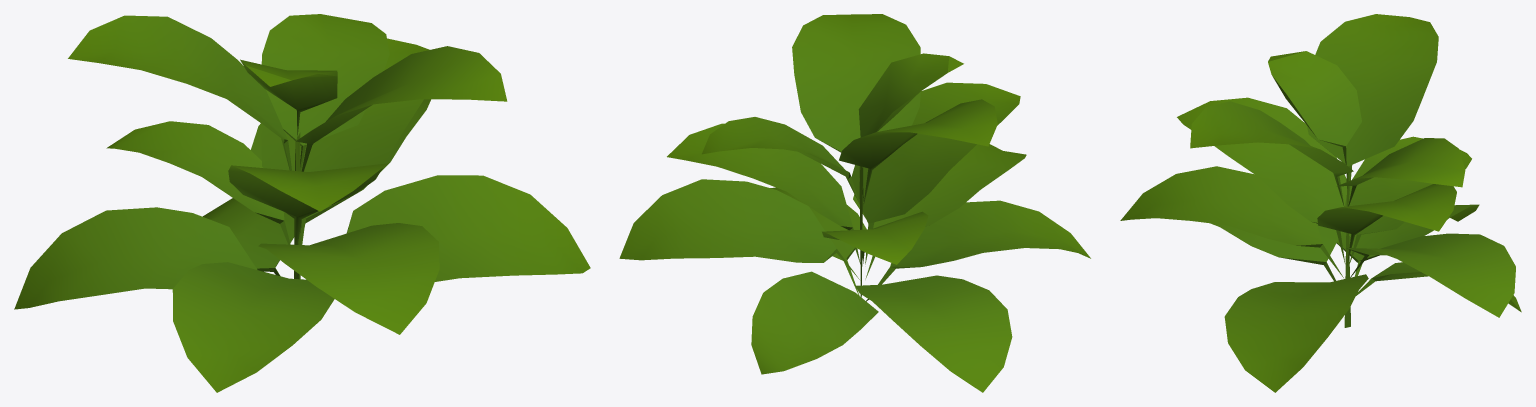
The model's file is SM_Nature_Plant_02.fbx.
3 renders of one model, left to right at view 1: azimuth 30°, elevation 25°; view 2: azimuth 150°, elevation 25°; view 3: azimuth 270°, elevation 25°, orthographic. The views are drawn at different scales.
Parts seen in each view (by area): view 1: SM_Nature_Plant_02_LOD0; view 2: SM_Nature_Plant_02_LOD0; view 3: SM_Nature_Plant_02_LOD0.
Boxes of the visible parts, x1=… form: SM_Nature_Plant_02_LOD0: x1=14, y1=14, x2=590, y2=392; SM_Nature_Plant_02_LOD0: x1=619, y1=14, x2=1090, y2=392; SM_Nature_Plant_02_LOD0: x1=1120, y1=14, x2=1521, y2=392.
Size of the model in its own units: 87.84 by 55.18 by 81.61.
